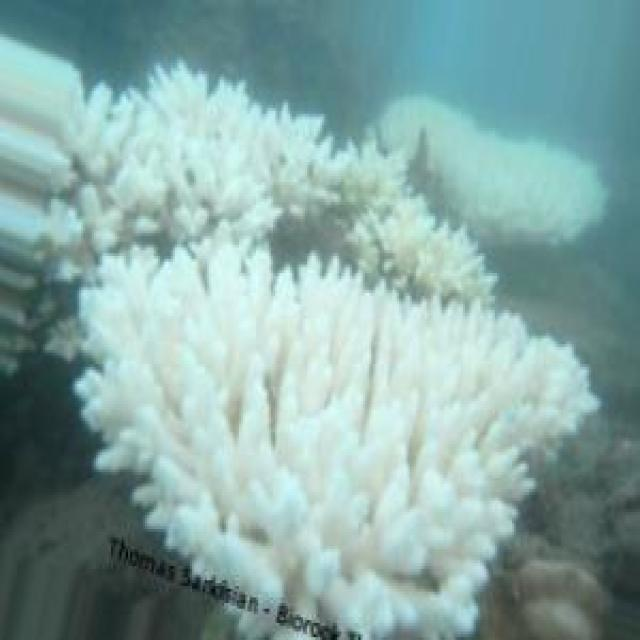bleached coral: (76, 243, 596, 638), (72, 65, 350, 255), (380, 97, 606, 239), (355, 185, 495, 302), (446, 134, 595, 213), (126, 131, 277, 208), (233, 515, 343, 612), (395, 501, 508, 583), (186, 299, 301, 375), (134, 410, 226, 503), (352, 193, 446, 276), (45, 88, 115, 199), (81, 262, 149, 364), (333, 299, 397, 401), (341, 418, 407, 515), (435, 350, 512, 421)
